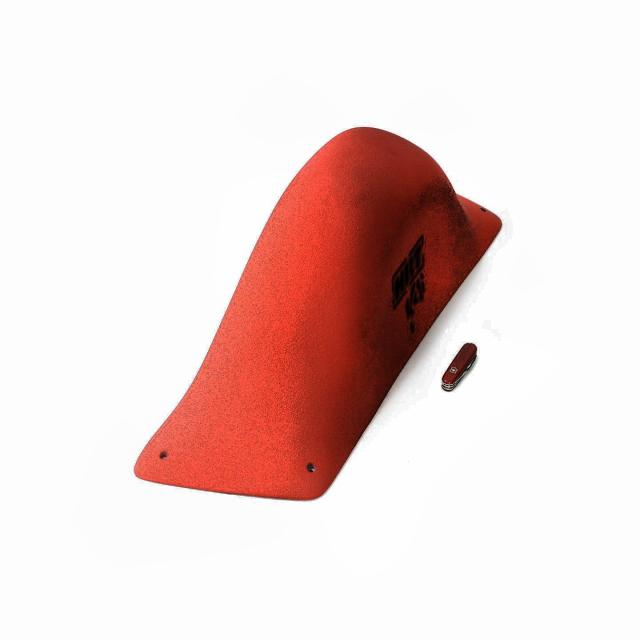Hold: (130, 120, 511, 514)
